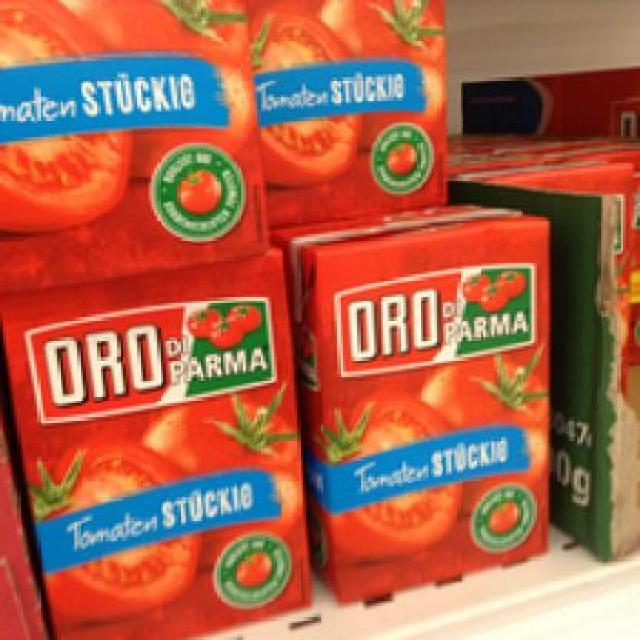Tomato Sauce: (0, 250, 312, 638), (274, 203, 552, 606), (0, 0, 266, 289), (248, 0, 448, 226)
